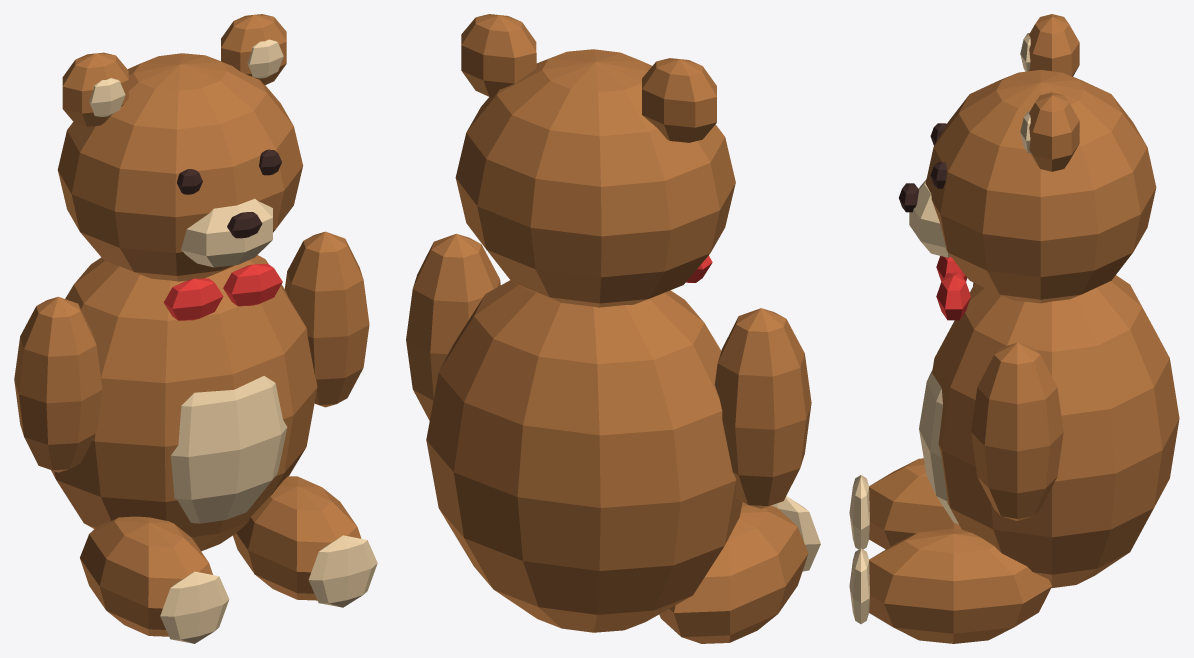
File: nallebjorn.glb
3 renders of one model, left to right at view 1: azimuth 30°, elevation 25°; view 2: azimuth 150°, elevation 25°; view 3: azimuth 270°, elevation 25°, orthographic. The views are drawn at different scales.
Visible parts, largest first — view 1: nalle; view 2: nalle; view 3: nalle.
Part boxes in pixels (x1,y1,x2,y2): nalle: (14,14,377,643); nalle: (406,14,820,643); nalle: (849,14,1179,643).
Bounding box in the file's own units: 0.7 × 1.04 × 0.57.
